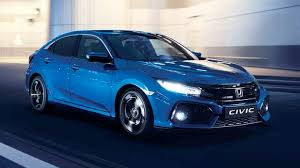Honda: (24, 26, 272, 136)
